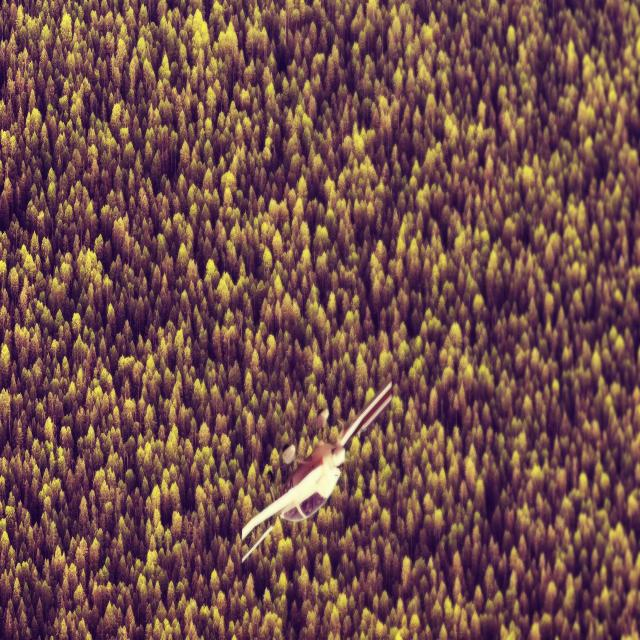airplane: (240, 379, 392, 564)
